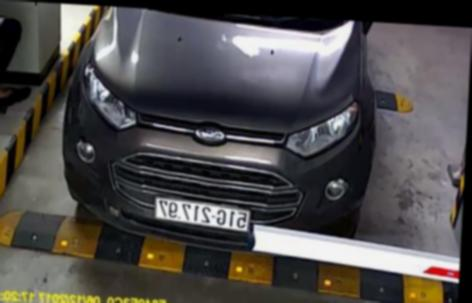License_Plate: (148, 195, 252, 229)
